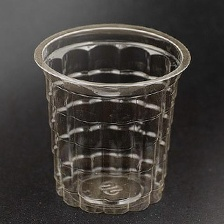glass: (30, 19, 206, 221)
